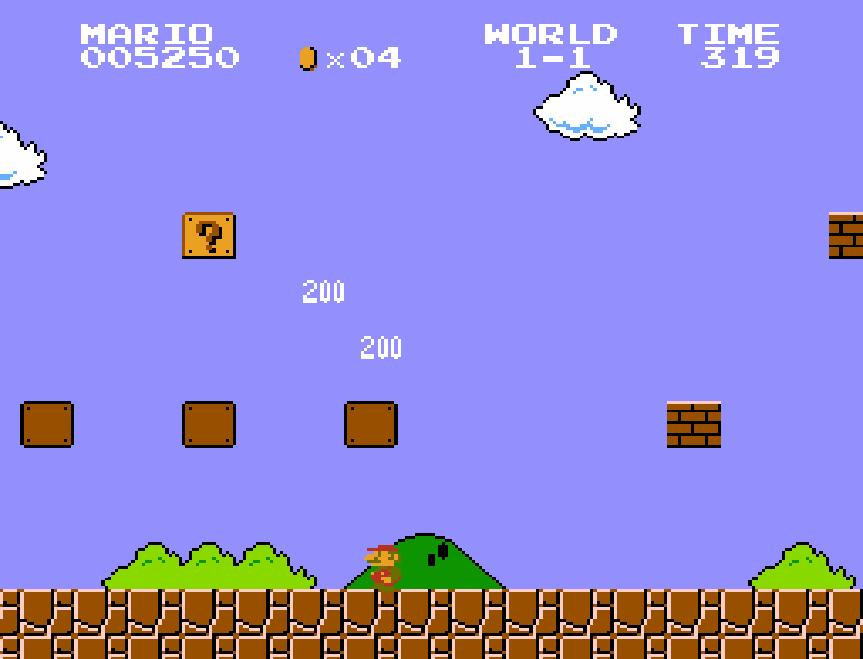little_mario: (355, 544, 413, 594)
